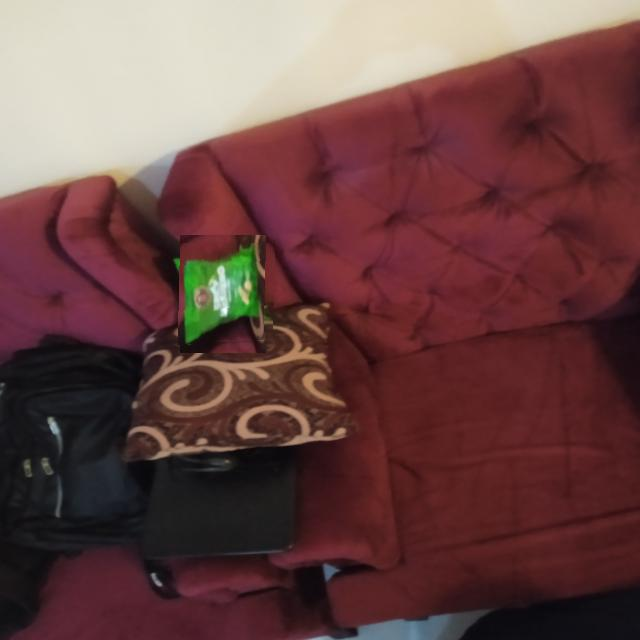Plastic: (172, 243, 275, 345)
